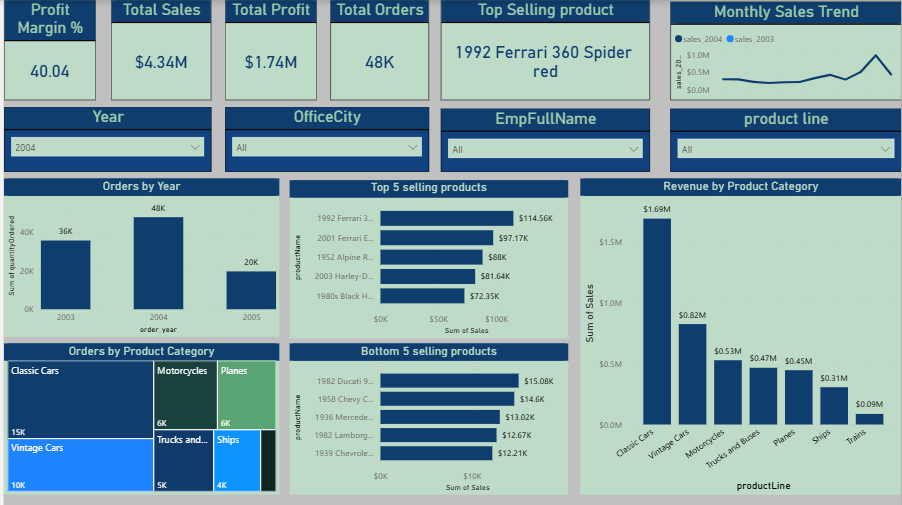

The dashboard page shown, as its layout file describes it:
{"tool":"powerbi","page":{"name":"Page 1","canvas":[1280,720],"ordinal":0},"visuals":[{"type":"columnChart","title":"Orders by Year","fields":{"Category":["ord.order_year"],"Y":["Sum(details.quantityOrdered)"]},"box":[0,254.7,393,225.6],"z":0},{"type":"card","title":"Top Selling product","fields":{"Values":["details.Top Product Name"]},"box":[623.5,0,298.4,143.1],"z":1000},{"type":"barChart","title":"Top 5 selling products","fields":{"Category":["products.productName"],"Y":["Sum(details.Sales)"]},"box":[407.6,257.1,397.8,225.6],"z":2000},{"type":"clusteredColumnChart","title":"Revenue by Product Category","fields":{"Category":["products.productLine"],"Y":["Sum(details.Sales)"]},"box":[822.4,254.7,458.5,451.2],"z":3000},{"type":"slicer","title":"Year","fields":{"Values":["ord.orderDate.Variation.Date Hierarchy.Year","ord.orderDate.Variation.Date Hierarchy.Quarter","ord.orderDate.Variation.Date Hierarchy.Month","ord.orderDate.Variation.Date Hierarchy.Day"]},"box":[0,152.8,296,92.2],"z":4000},{"type":"card","title":"Total Orders","fields":{"Values":["Sum(details.quantityOrdered)"]},"box":[465.8,0,140.7,143.1],"z":5000},{"type":"lineChart","title":"Monthly Sales Trend","fields":{"Category":["ord.Month Name"],"Y":["ord.sales_2004","ord.sales_2003"]},"box":[951,2.4,329.9,140.7],"z":6000},{"type":"treemap","title":"Orders by Product Category","fields":{"Group":["productlines.productLine"],"Values":["Sum(details.quantityOrdered)"]},"box":[0,490,393,215.9],"z":7000},{"type":"slicer","title":"OfficeCity","fields":{"Values":["offices.city"]},"box":[315.4,152.8,291.1,92.2],"z":8000},{"type":"slicer","title":"product line","fields":{"Values":["productlines.productLine"]},"box":[951,155.3,329.9,89.8],"z":9000},{"type":"barChart","title":"Bottom 5 selling products","fields":{"Category":["products.productName"],"Y":["Sum(details.Sales)"]},"box":[407.6,490,397.8,215.9],"z":10000},{"type":"card","title":"Total Profit","fields":{"Values":["Sum(details.profit)"]},"box":[315.4,0,131,143.1],"z":11000},{"type":"card","title":"Profit Margin %","fields":{"Values":["details.profit_margin%"]},"box":[0,0,131,143.1],"z":12000},{"type":"card","title":"Total Sales","fields":{"Values":["details.Total_sales"]},"box":[152.8,0,143.1,143.1],"z":13000},{"type":"slicer","title":"EmpFullName","fields":{"Values":["employees.FullName"]},"box":[623.5,155.3,298.4,89.8],"z":14000}]}

Visuals, with their boxes in screenshot pixels (x1, y1, x2, y2), scaled from the page's 1280x720 canvas onto the 902x505 screenshot:
"Orders by Year" columnChart: detection(0, 179, 277, 337)
"Top Selling product" card: detection(439, 0, 650, 100)
"Top 5 selling products" barChart: detection(287, 180, 568, 339)
"Revenue by Product Category" clusteredColumnChart: detection(580, 179, 901, 495)
"Year" slicer: detection(0, 107, 209, 172)
"Total Orders" card: detection(328, 0, 427, 100)
"Monthly Sales Trend" lineChart: detection(670, 2, 901, 100)
"Orders by Product Category" treemap: detection(0, 344, 277, 495)
"OfficeCity" slicer: detection(222, 107, 427, 172)
"product line" slicer: detection(670, 109, 901, 172)
"Bottom 5 selling products" barChart: detection(287, 344, 568, 495)
"Total Profit" card: detection(222, 0, 315, 100)
"Profit Margin %" card: detection(0, 0, 92, 100)
"Total Sales" card: detection(108, 0, 209, 100)
"EmpFullName" slicer: detection(439, 109, 650, 172)
